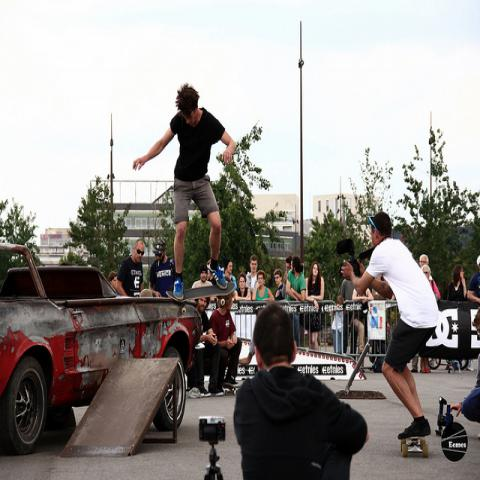car: (0, 236, 201, 451)
